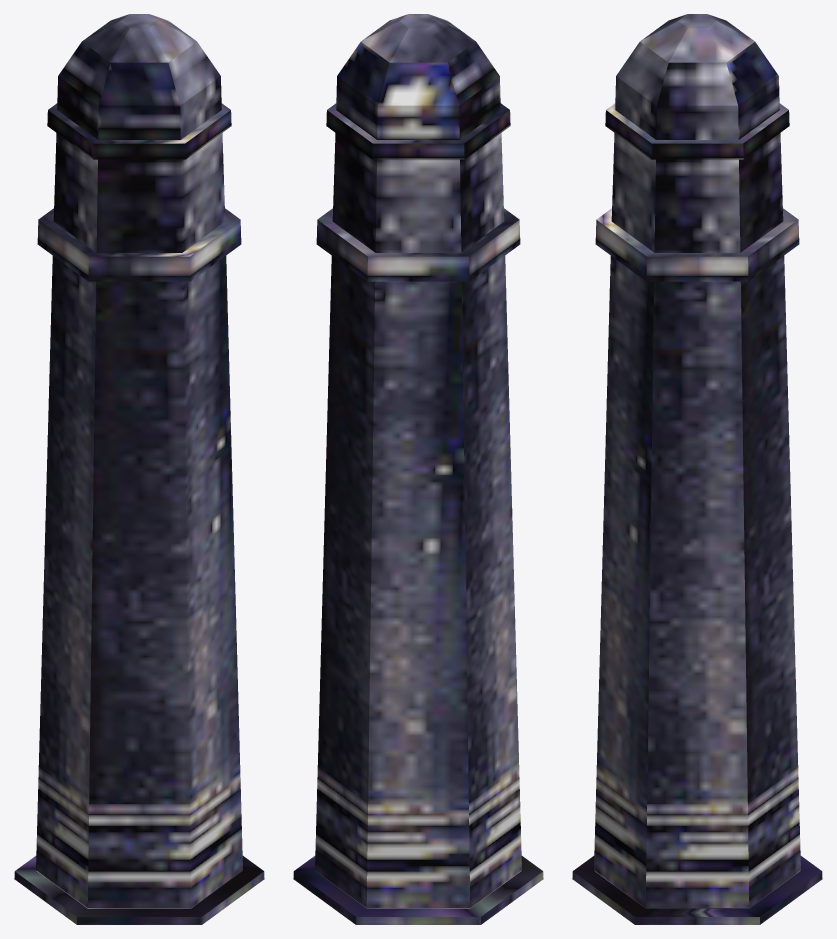
The model's file is Paloacera4.fbx.
3 renders of one model, left to right at view 1: azimuth 30°, elevation 25°; view 2: azimuth 150°, elevation 25°; view 3: azimuth 270°, elevation 25°, orthographic.
Visible parts, largest first — view 1: retro_bollard; view 2: retro_bollard; view 3: retro_bollard.
Part boxes in pixels (x1=…): retro_bollard: x1=14, y1=14, x2=264, y2=924; retro_bollard: x1=293, y1=14, x2=543, y2=924; retro_bollard: x1=572, y1=14, x2=822, y2=924.
Bounding box in the file's own units: 29.74 × 130 × 34.34.
